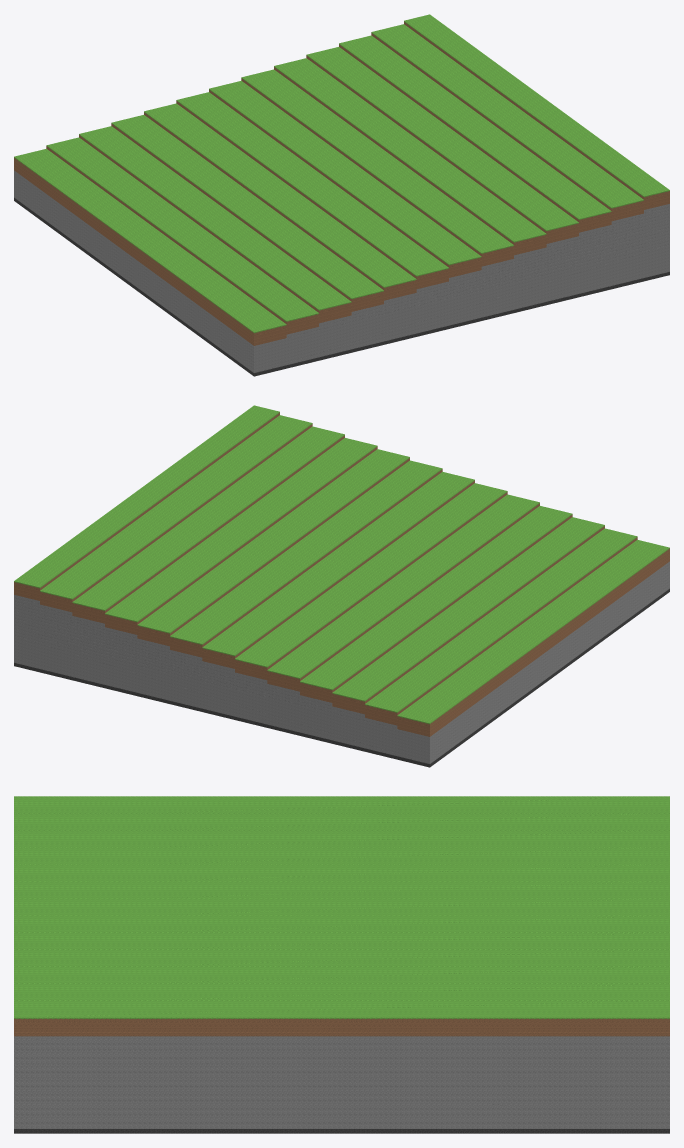
The model's file is etape4a.glb.
3 renders of one model, top to bottom at view 1: azimuth 30°, elevation 25°; view 2: azimuth 150°, elevation 25°; view 3: azimuth 270°, elevation 25°, orthographic. The views are drawn at different scales.
Parts seen in each view (by area): view 1: world; view 2: world; view 3: world.
Part boxes in pixels (<box>): world: <box>14,14,669,376</box>; world: <box>14,405,669,767</box>; world: <box>14,796,669,1133</box>.
Size of the model in its own units: 128 by 25 by 128.
Materials: 5 (5 with a texture image).
